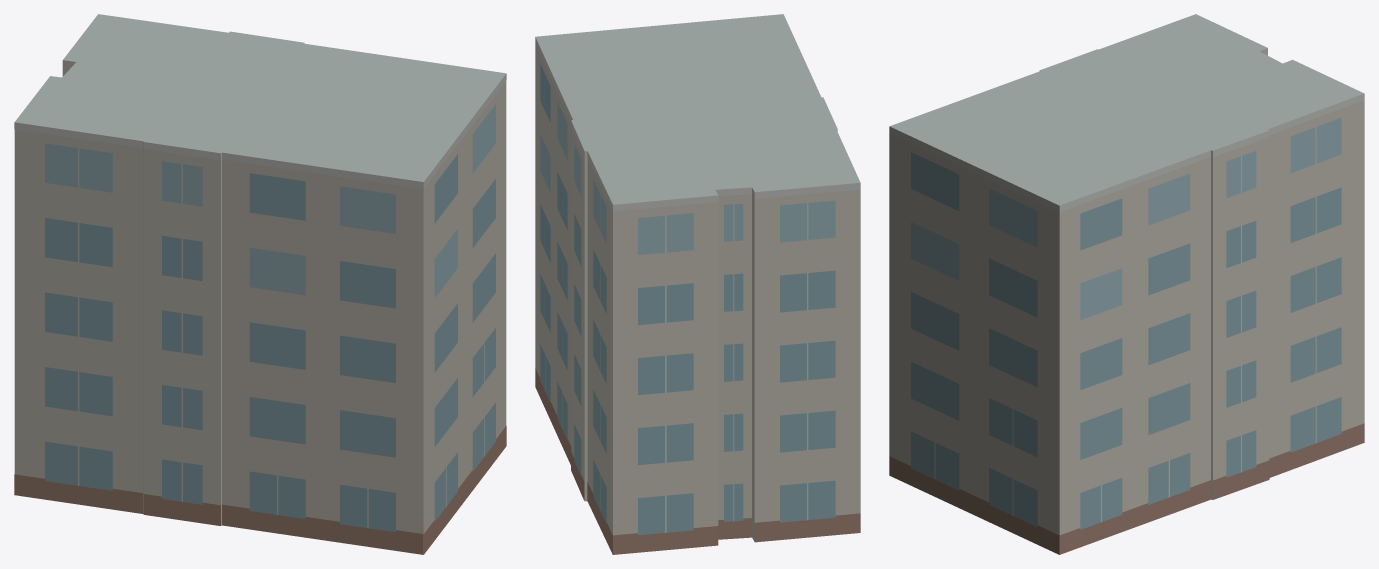
The model's file is survey-upis-32889217.glb.
3 views of the same model, side by side, from view 1: azimuth 30°, elevation 25°; view 2: azimuth 150°, elevation 25°; view 3: azimuth 270°, elevation 25° (orthographic). The views are drawn at different scales.
Visible parts, largest first — view 1: survey-upis-32889217.tmp; view 2: survey-upis-32889217.tmp; view 3: survey-upis-32889217.tmp.
Part boxes in pixels (x1,y1,x2,y2): survey-upis-32889217.tmp: (14,14,506,554); survey-upis-32889217.tmp: (535,14,860,554); survey-upis-32889217.tmp: (889,14,1364,554).
Size of the model in its own units: 15.31 by 13 by 16.04.
